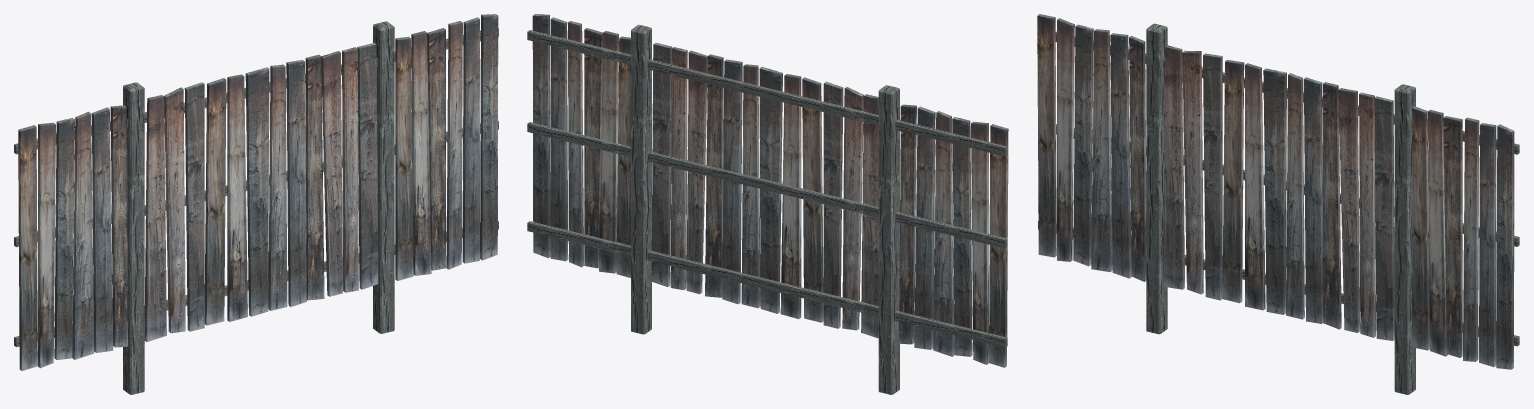
The model's file is WoodFenceBigShort.FBX.
3 renders of one model, left to right at view 1: azimuth 30°, elevation 25°; view 2: azimuth 150°, elevation 25°; view 3: azimuth 330°, elevation 25°, orthographic.
Parts seen in each view (by area): view 1: WoodFenceBigShort; view 2: WoodFenceBigShort; view 3: WoodFenceBigShort.
Boxes of the visible parts, box(x1,y1,x2,y2) form: WoodFenceBigShort: box(14, 14, 498, 394); WoodFenceBigShort: box(527, 14, 1008, 394); WoodFenceBigShort: box(1037, 14, 1519, 394).
Size of the model in its own units: 60 by 36.24 by 1.84.
Materials: 1 (1 with a texture image).
